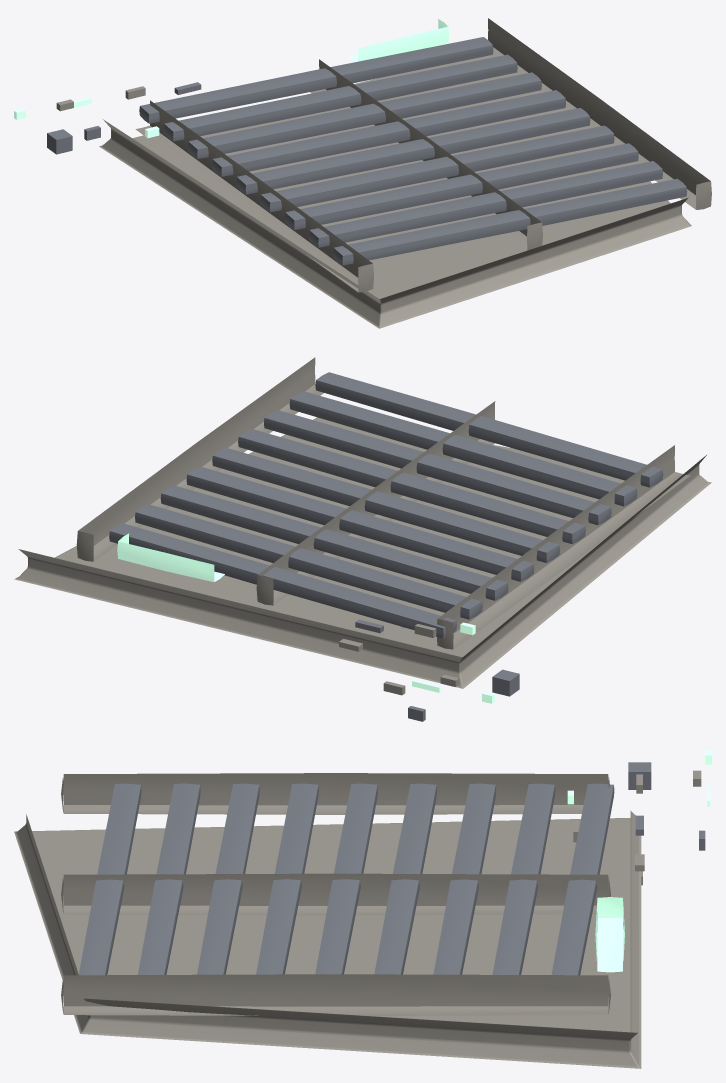
File: fin_radiator_grid.glb
The picture shows the model from 3 angles, top to bottom: view 1: azimuth 30°, elevation 25°; view 2: azimuth 150°, elevation 25°; view 3: azimuth 270°, elevation 25°; orthographic projection. The views are drawn at different scales.
Parts seen in each view (by area): view 1: fin_radiator_grid_Material_Hull_Merged, fin_radiator_grid_Material_Mechanical_Merged, Radiator_Status, DET_mount_flange; view 2: fin_radiator_grid_Material_Hull_Merged, fin_radiator_grid_Material_Mechanical_Merged, Radiator_Status, DET_mount_flange; view 3: fin_radiator_grid_Material_Mechanical_Merged, fin_radiator_grid_Material_Hull_Merged, Radiator_Status, DET_mount_flange.
Part boxes in pixels (<box>): fin_radiator_grid_Material_Hull_Merged: <box>139,37,687,265</box>; fin_radiator_grid_Material_Mechanical_Merged: <box>99,18,711,328</box>; Radiator_Status: <box>348,19,449,62</box>; DET_mount_flange: <box>47,129,72,154</box>; fin_radiator_grid_Material_Hull_Merged: <box>109,372,663,638</box>; fin_radiator_grid_Material_Mechanical_Merged: <box>14,357,711,688</box>; Radiator_Status: <box>117,533,224,581</box>; DET_mount_flange: <box>492,669,519,696</box>; fin_radiator_grid_Material_Mechanical_Merged: <box>14,773,641,1068</box>; fin_radiator_grid_Material_Hull_Merged: <box>78,783,614,975</box>; Radiator_Status: <box>595,897,624,972</box>; DET_mount_flange: <box>628,762,651,789</box>.
Bounding box in the file's own units: 4.1 × 0.6 × 4.25.
